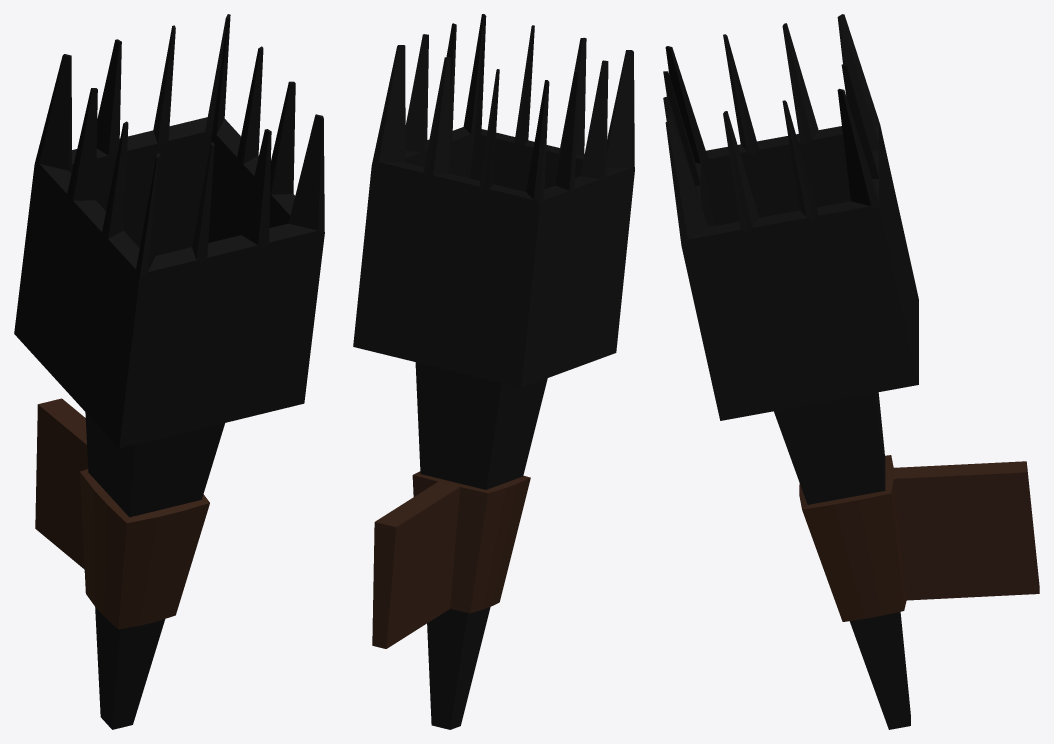
File: 3D_Torch.fbx
The picture shows the model from 3 angles, left to right: view 1: azimuth 30°, elevation 25°; view 2: azimuth 150°, elevation 25°; view 3: azimuth 270°, elevation 25°; orthographic projection. The views are drawn at different scales.
Visible parts, largest first — view 1: Torch; view 2: Torch; view 3: Torch.
Part boxes in pixels (bbox=[...]): Torch: bbox=[14, 14, 324, 729]; Torch: bbox=[353, 14, 634, 729]; Torch: bbox=[663, 14, 1039, 729].
Bounding box in the file's own units: 18.39 × 67.45 × 34.16.
